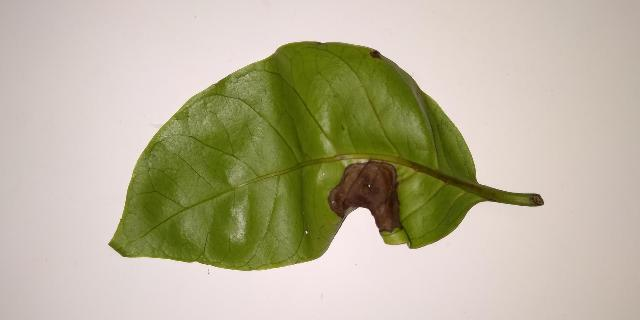rust: (328, 159, 401, 234)
